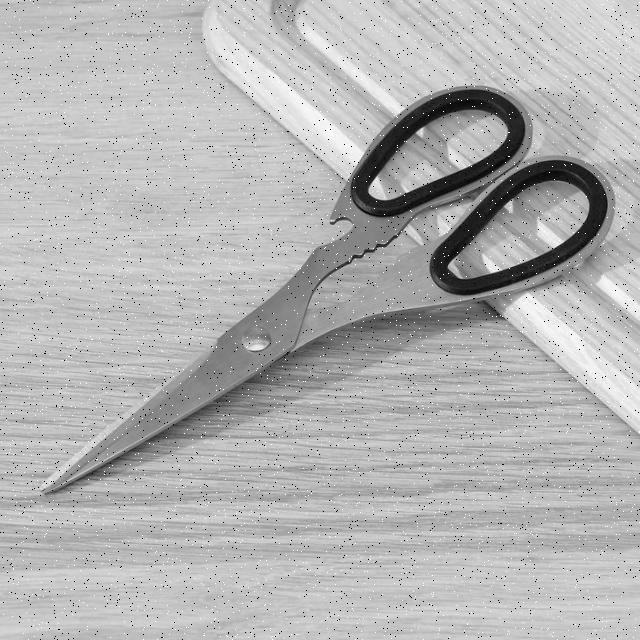scissors: (37, 76, 621, 502)
